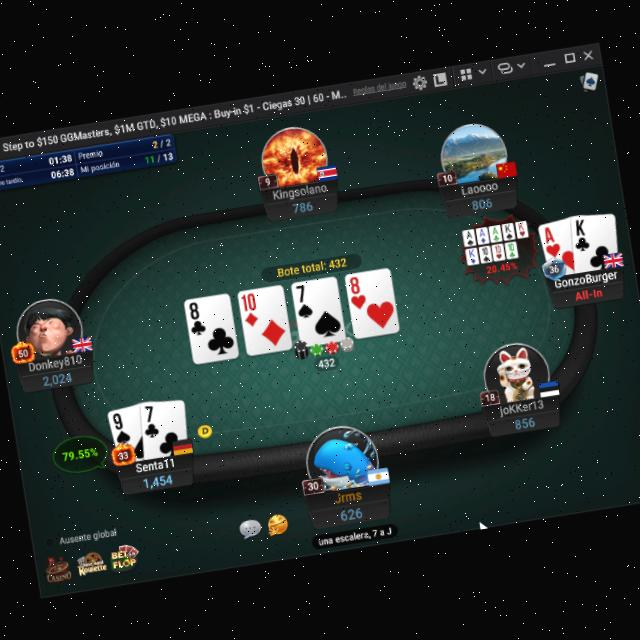7c: (137, 400, 164, 440)
7s: (291, 282, 314, 319)
8c: (185, 298, 210, 339)
8h: (347, 274, 368, 312)
9s: (110, 407, 135, 447)
Ah: (540, 222, 564, 261)
Kc: (570, 216, 594, 254)
Td: (240, 290, 262, 328)
all_in_symbol: (572, 284, 604, 303)
dealer: (194, 420, 216, 441)
pot_text: (275, 256, 348, 280)
stack_text: (40, 368, 74, 388), (142, 472, 174, 491), (337, 504, 366, 524), (468, 194, 496, 212), (290, 198, 314, 218), (512, 413, 537, 430)
